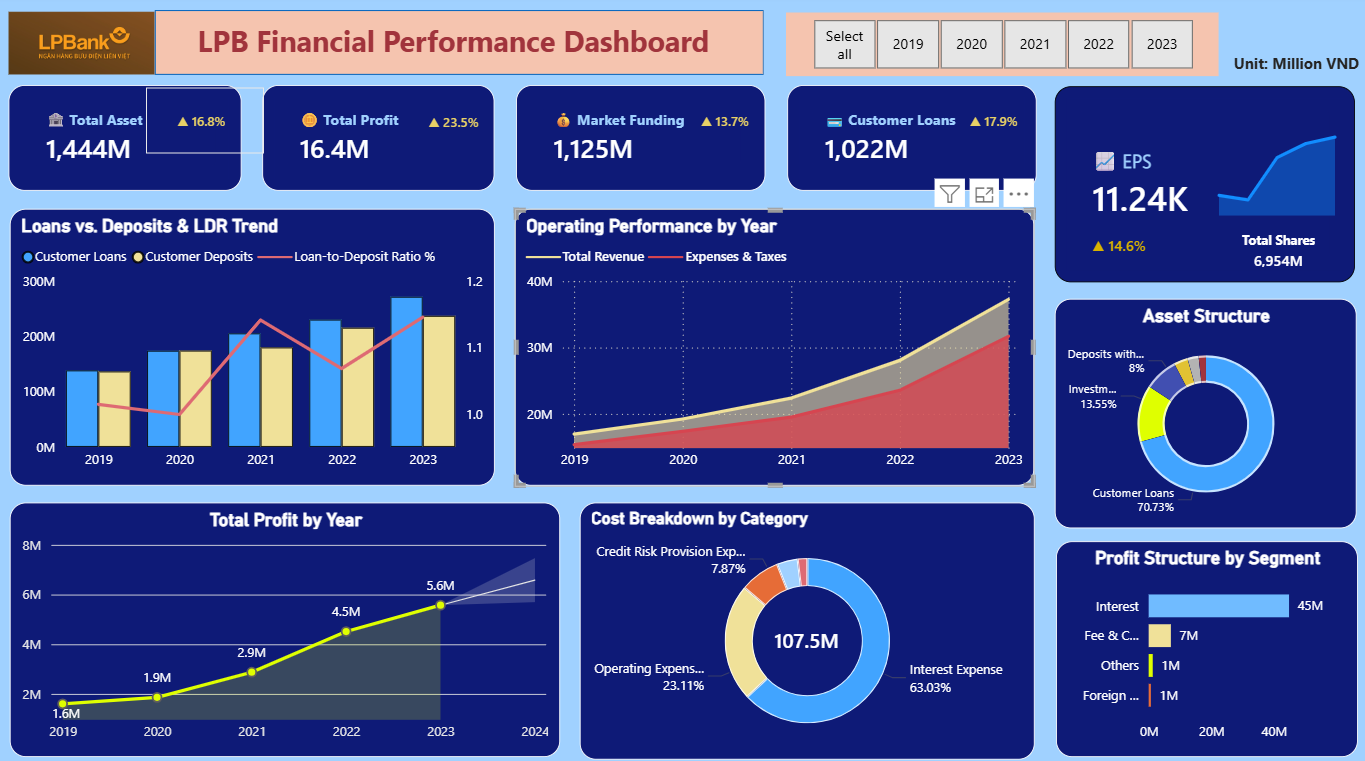

The dashboard page shown, as its layout file describes it:
{"tool":"powerbi","page":{"name":"Page 2","canvas":[1280,720],"ordinal":0},"visuals":[{"type":"image","box":[12,14.4,135.7,61.2],"z":0},{"type":"slicer","fields":{"Values":["Calendar.Year"]},"box":[734.9,15.8,402.7,59],"z":1000},{"type":"cardVisual","fields":{"Data":["Table 2.Tong_Tai_San_LPB"]},"box":[12,83.7,216.8,98.1],"z":2000},{"type":"cardVisual","fields":{"Data":["Table 1.LNST"]},"box":[248.1,83.7,216,98],"z":3000},{"type":"cardVisual","fields":{"Data":["Table 2.% Tang Truong Tai San"]},"box":[140,86.4,108.4,61.7],"z":4000},{"type":"cardVisual","fields":{"Data":["Table 2.Huy Dong Thi Truong"]},"box":[483.8,83.7,232,98],"z":5000},{"type":"cardVisual","fields":{"Data":["Table 1.% Tang Truong Lợi nhuận"]},"box":[373.2,89.2,119.4,54.9],"z":6000},{"type":"cardVisual","fields":{"Data":["Table 2.% Huy dong von"]},"box":[627.1,82.3,108.4,67.2],"z":7000},{"type":"cardVisual","fields":{"Data":["Table 2.Du No Cho Vay"]},"box":[735.5,84.3,232,98],"z":8000},{"type":"cardVisual","fields":{"Data":["Table 2.% Du no cho vay"]},"box":[876.8,86.4,108.4,60.4],"z":9000},{"type":"shape","box":[148.1,14.4,566.7,60.4],"z":10000},{"type":"lineChart","title":"Total Profit by Year","fields":{"Y":["Table 1.LNST"],"Category":["Calendar.Date.Variation.Date Hierarchy.Year"]},"box":[12.5,471.8,512.4,237],"z":11000},{"type":"barChart","title":"Profit Structure by Segment","fields":{"Category":["Table 1.Chỉ tiêu (groups)"],"Y":["Sum(Table 1.Value)"]},"box":[985.5,508,281,200.7],"z":12000},{"type":"donutChart","title":"Asset Structure","fields":{"Category":["Table 2.Chỉ tiêu (groups)"],"Y":["Sum(Table 2.Value)"]},"box":[985.3,282,280.9,213.3],"z":13000},{"type":"lineClusteredColumnComboChart","title":"Loans vs. Deposits & LDR Trend","fields":{"Category":["Calendar.Year"],"Y":["Table 2.Cho vay khách hàng","Table 2.Tiền gửi khách hàng"],"Y2":["Table 2.LDR %"]},"box":[12.5,199.3,451.2,257.4],"z":14000},{"type":"donutChart","title":"Cost Breakdown by Category","fields":{"Category":["Table 1.Chỉ tiêu (groups) 2"],"Y":["Table 1.Gia Tri Chi Phi"]},"box":[543.5,471.8,423,239],"z":15000},{"type":"cardVisual","fields":{"Data":["Table 1.Chi phí & Thuế"]},"box":[692.8,554.5,122.5,88.7],"z":16000},{"type":"areaChart","title":"Operating Performance by Year","fields":{"Category":["Calendar.Year"],"Y":["Table 1.Tong Thu Nhap Chon Loc","Table 1.Chi phí & Thuế"]},"box":[483,199.3,483,257.4],"z":17000},{"type":"textbox","box":[182.7,20.1,510.1,58.1],"z":18000},{"type":"group","id":"g1","title":"Group 1","box":[985.2,84.9,279,197],"z":19000},{"type":"textbox","box":[1146.2,48.9,133.8,30.2],"z":20000},{"type":"cardVisual","fields":{"Data":["Table 5.Earnings Per Share"]},"box":[985.2,84.9,279,182.7],"z":20000,"group":"g1"},{"type":"lineChart","fields":{"Y":["Table 5.Earnings Per Share"],"Category":["Table 5.Attribute"]},"box":[1121.8,100.7,139.5,109.3],"z":21000,"group":"g1"},{"type":"cardVisual","fields":{"Data":["Table 5.% Co phieu"]},"box":[991,182.7,135.2,97.8],"z":22000,"group":"g1"},{"type":"cardVisual","fields":{"Data":["Table 5.So Co Phieu"]},"box":[1121.8,192.8,142.4,89.2],"z":23000,"group":"g1"}]}

Visuals, with their boxes in screenshot pixels (x1, y1, x2, y2), scaled from the page's 1280x720 canvas onto the 1365x761 screenshot:
image: bbox=[13, 15, 158, 80]
slicer - Calendar.Year: bbox=[784, 17, 1213, 79]
cardVisual - Table 2.Tong_Tai_San_LPB: bbox=[13, 88, 244, 192]
cardVisual - Table 1.LNST: bbox=[265, 88, 495, 192]
cardVisual - Table 2.% Tang Truong Tai San: bbox=[149, 91, 265, 157]
cardVisual - Table 2.Huy Dong Thi Truong: bbox=[516, 88, 763, 192]
cardVisual - Table 1.% Tang Truong Lợi nhuận: bbox=[398, 94, 525, 152]
cardVisual - Table 2.% Huy dong von: bbox=[669, 87, 784, 158]
cardVisual - Table 2.Du No Cho Vay: bbox=[784, 89, 1032, 193]
cardVisual - Table 2.% Du no cho vay: bbox=[935, 91, 1051, 155]
shape: bbox=[158, 15, 762, 79]
"Total Profit by Year" lineChart: bbox=[13, 499, 560, 749]
"Profit Structure by Segment" barChart: bbox=[1051, 537, 1351, 749]
"Asset Structure" donutChart: bbox=[1051, 298, 1350, 524]
"Loans vs. Deposits & LDR Trend" lineClusteredColumnComboChart: bbox=[13, 211, 494, 483]
"Cost Breakdown by Category" donutChart: bbox=[580, 499, 1031, 751]
cardVisual - Table 1.Chi phí & Thuế: bbox=[739, 586, 869, 680]
"Operating Performance by Year" areaChart: bbox=[515, 211, 1030, 483]
textbox: bbox=[195, 21, 739, 83]
"Group 1" group: bbox=[1051, 90, 1348, 298]
textbox: bbox=[1222, 52, 1364, 84]
cardVisual - Table 5.Earnings Per Share: bbox=[1051, 90, 1348, 283]
lineChart - Table 5.Earnings Per Share x Table 5.Attribute: bbox=[1196, 106, 1345, 222]
cardVisual - Table 5.% Co phieu: bbox=[1057, 193, 1201, 296]
cardVisual - Table 5.So Co Phieu: bbox=[1196, 204, 1348, 298]
